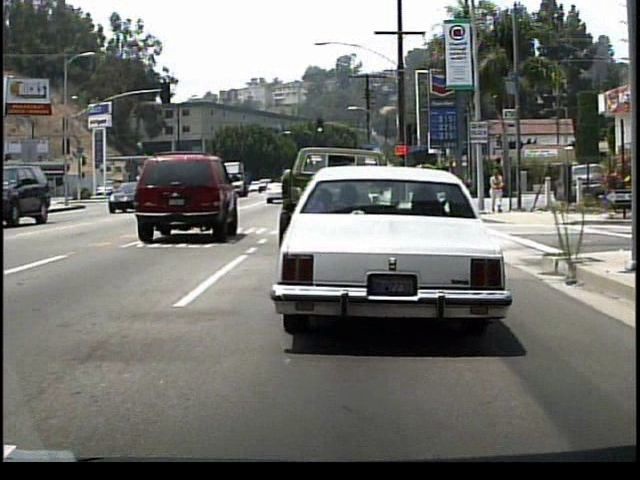person: (490, 167, 506, 214)
